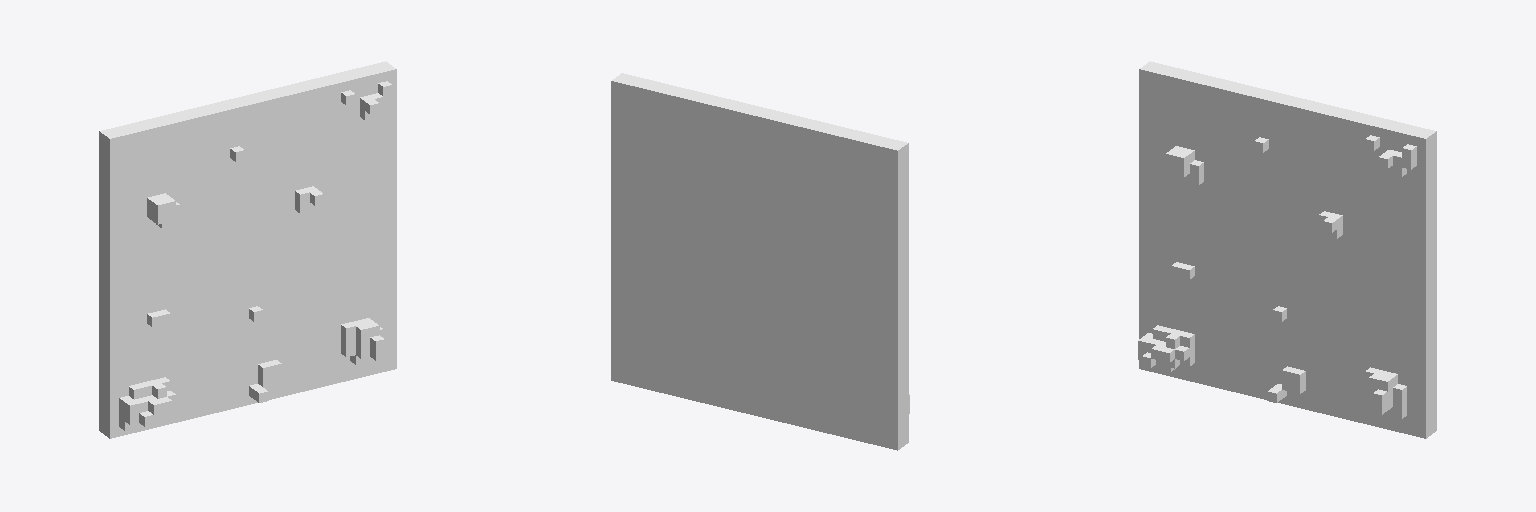
Rendered from Park1.obj.
The picture shows the model from 3 angles: view 1: azimuth 30°, elevation 25°; view 2: azimuth 150°, elevation 25°; view 3: azimuth 330°, elevation 25°; orthographic projection.
Parts seen in each view (by area): view 1: Park1; view 2: Park1; view 3: Park1.
Boxes of the visible parts, box(x1,y1,x2,y2) form: Park1: box(99, 61, 396, 438); Park1: box(611, 73, 909, 450); Park1: box(1138, 61, 1436, 438).
Size of the model in its own units: 31 by 31 by 5.